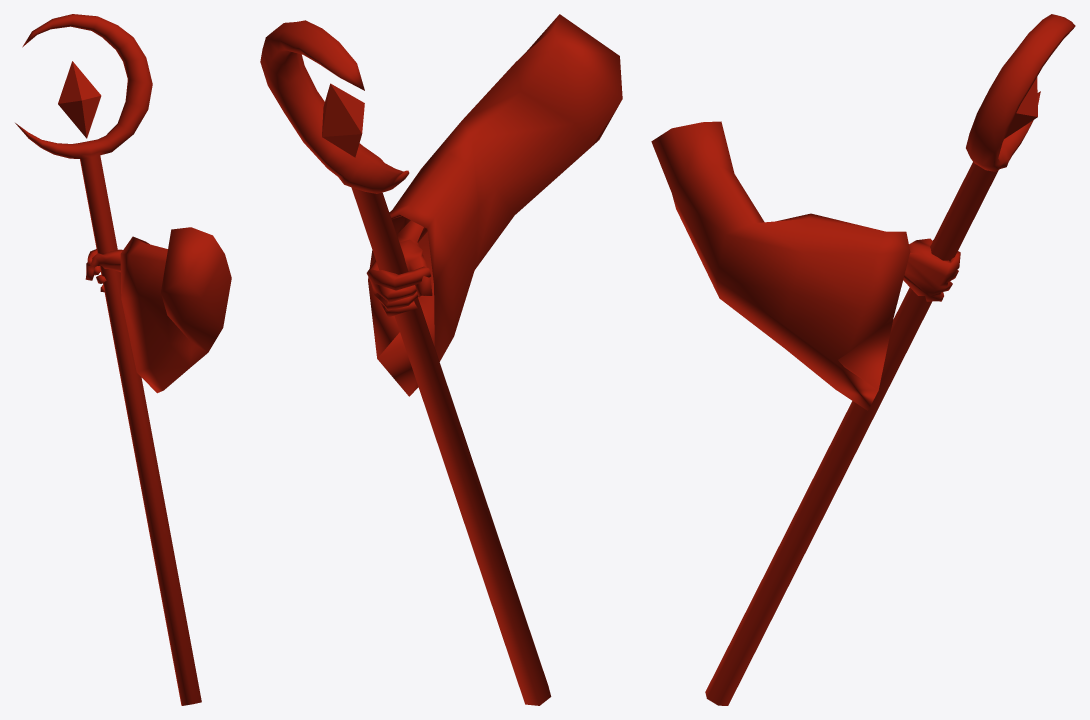
File: arm_000065.obj
3 renders of one model, left to right at view 1: azimuth 30°, elevation 25°; view 2: azimuth 150°, elevation 25°; view 3: azimuth 270°, elevation 25°, orthographic. The views are drawn at different scales.
Parts seen in each view (by area): view 1: LowPoly_Warlock.000_Plane.005; view 2: LowPoly_Warlock.000_Plane.005; view 3: LowPoly_Warlock.000_Plane.005.
Boxes of the visible parts, x1,y1,x2,y2 form: LowPoly_Warlock.000_Plane.005: (15, 14, 231, 705); LowPoly_Warlock.000_Plane.005: (260, 14, 622, 705); LowPoly_Warlock.000_Plane.005: (651, 14, 1075, 705).
Bounding box in the file's own units: 0.3851 × 1.75 × 0.9701.
